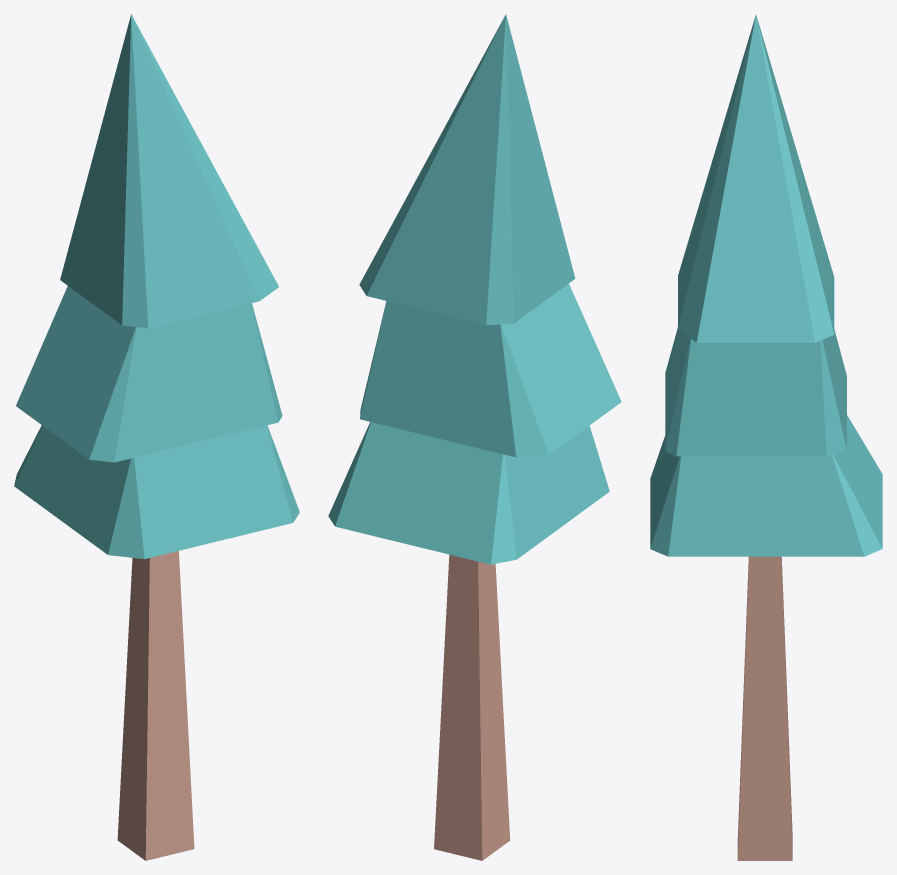
The model's file is tree_pineTallA.gltf.
3 renders of one model, left to right at view 1: azimuth 30°, elevation 25°; view 2: azimuth 150°, elevation 25°; view 3: azimuth 270°, elevation 25°, orthographic. The views are drawn at different scales.
Parts seen in each view (by area): view 1: tree_pineTallA; view 2: tree_pineTallA; view 3: tree_pineTallA.
Boxes of the visible parts, box(x1,y1,x2,y2) form: tree_pineTallA: box(14, 14, 299, 860); tree_pineTallA: box(328, 14, 621, 860); tree_pineTallA: box(650, 14, 882, 860).
Size of the model in its own units: 0.3863 by 1.53 by 0.3919.
